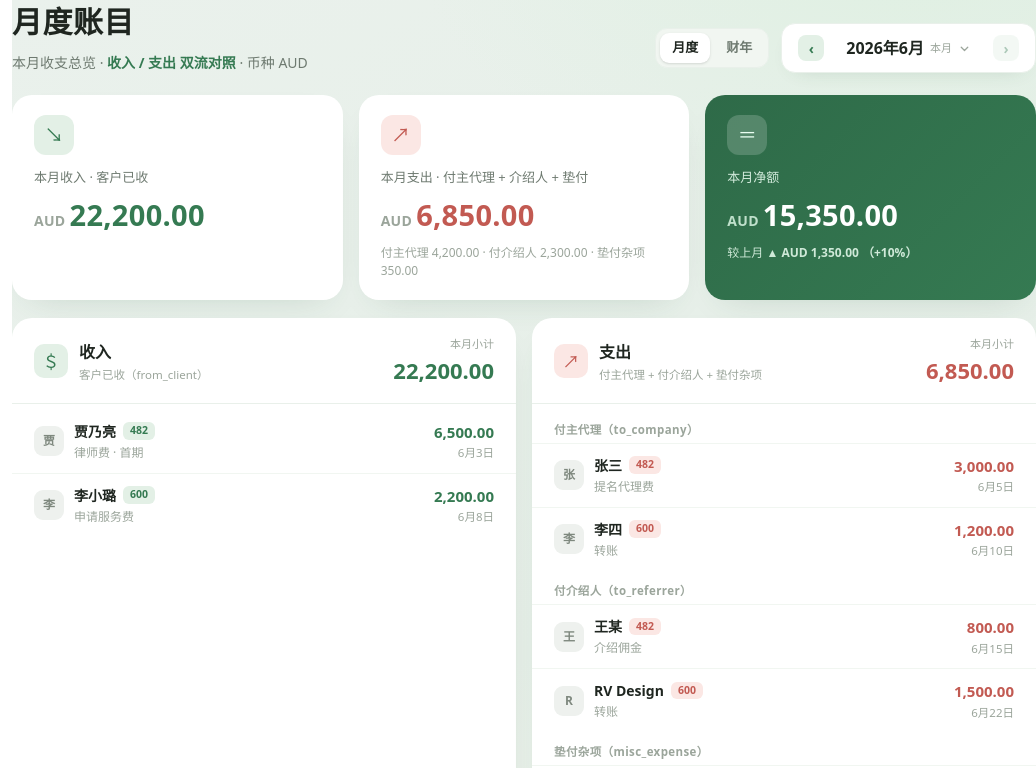
Scenario: FinancePage · 月度账目（mockup 重做） › 月份切换：默认当前月（2026年6月 + 本月 chip），‹ 切到 2026年5月并重新取数
This screenshot has width=1036, height=768.
Expected: the text "2026年6月" is shown, [846,36,924,60]
Expected: the text "本月" is shown, [930,40,952,56]
Click the button named "上个月" at (811, 48), box [798,35,824,61]
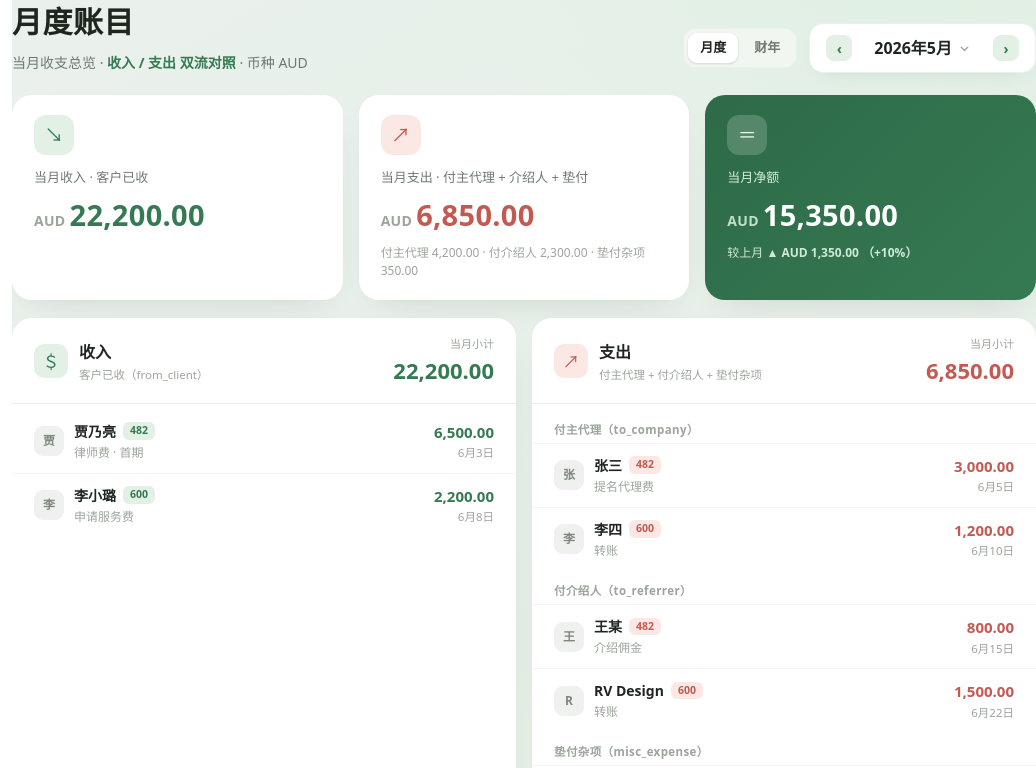
Expected: the text "2026年5月" is shown, [874,36,952,60]
Expected: the text "本月" is gone
Expected: the text "当月收入 · 客户已收" is shown, [34,168,148,186]
Click the button named "下个月" at (1006, 48), box [993,35,1019,61]
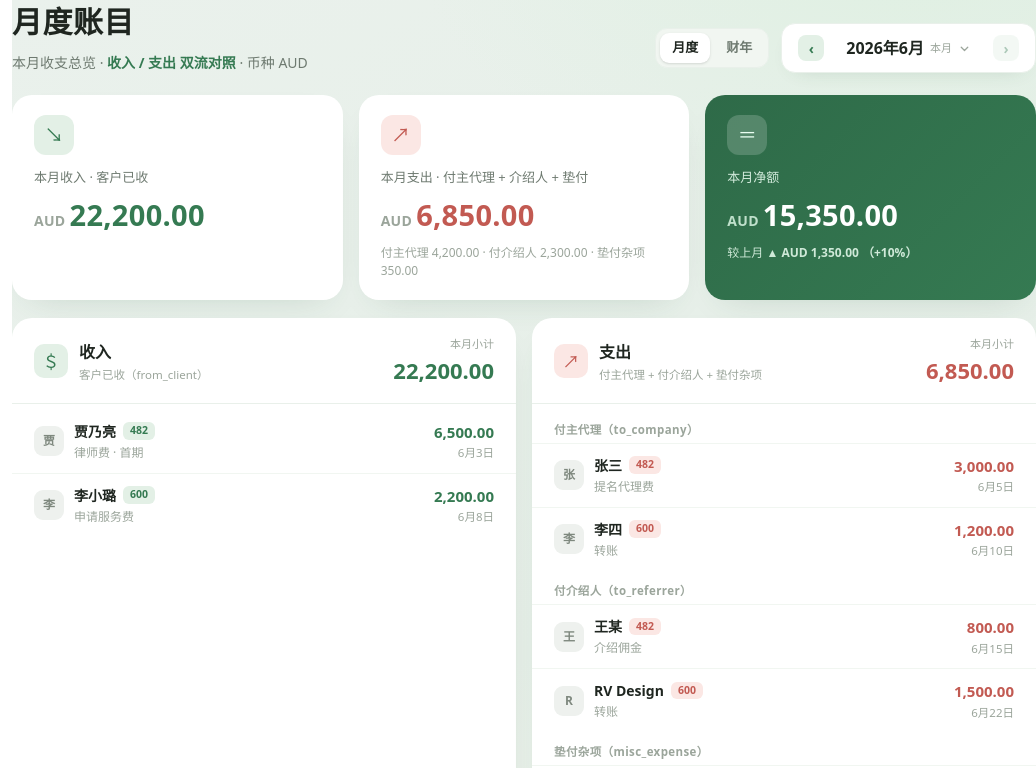
Expected: the text "2026年6月" is shown, [846,36,924,60]
